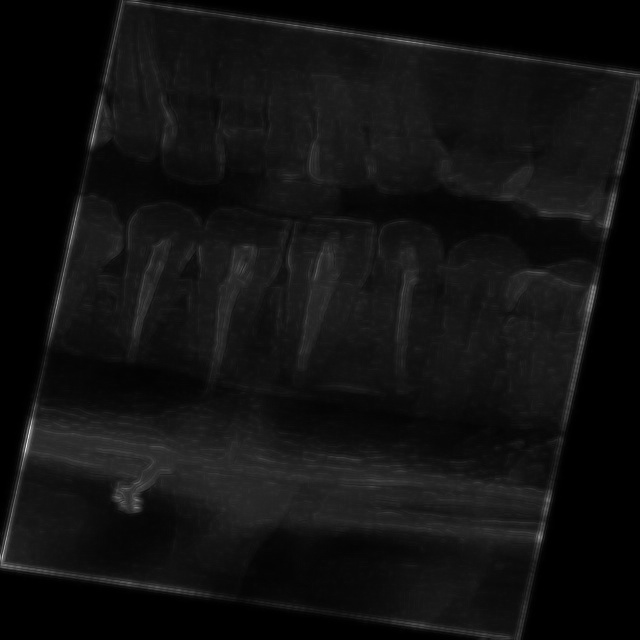Class 1- complete endodontic treatment: (161, 189, 302, 406), (335, 199, 476, 415), (244, 201, 388, 410), (83, 182, 218, 384)
